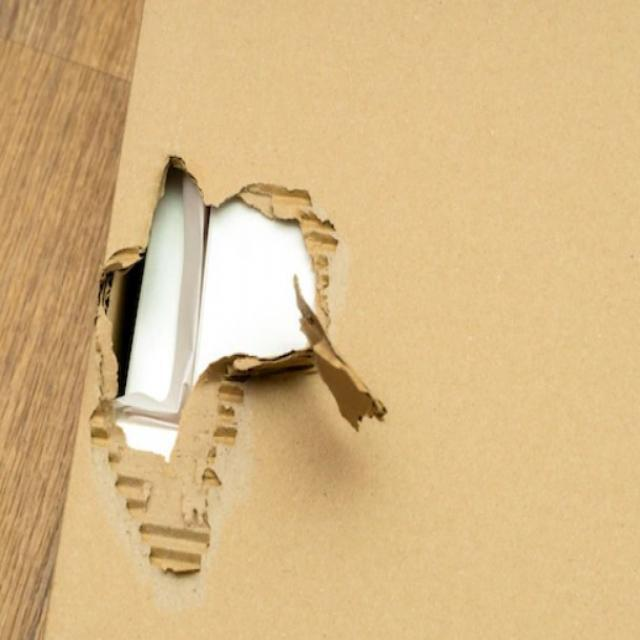hole: (104, 150, 384, 474)
